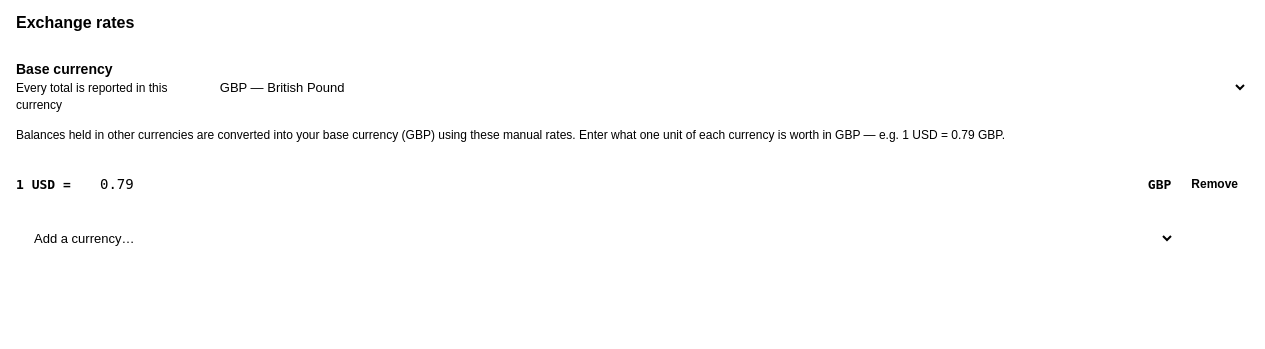
ExchangeRatesCard › switches the base currency and confirms it
Select "EUR — Euro" in the dropdown named "Base currency" at [725, 87], box [202,69,1248,106]
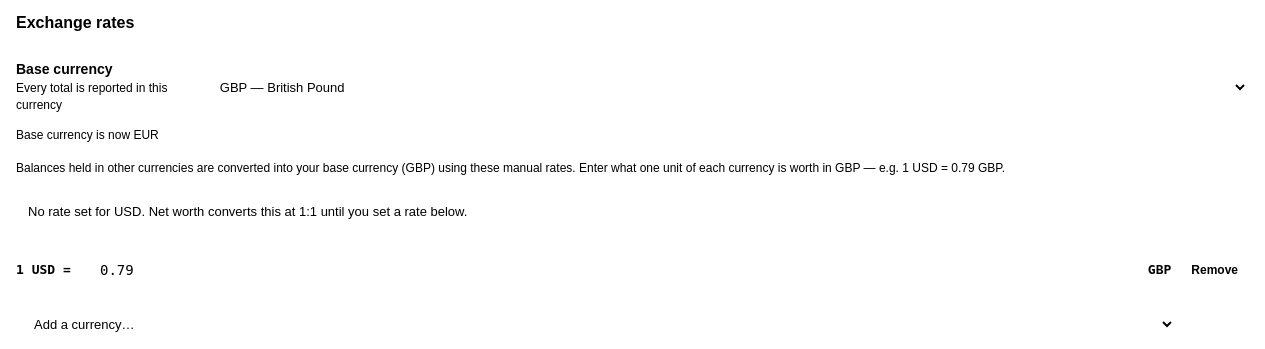
Expected: the text "Base currency is now EUR" is shown, [16,128,159,142]
